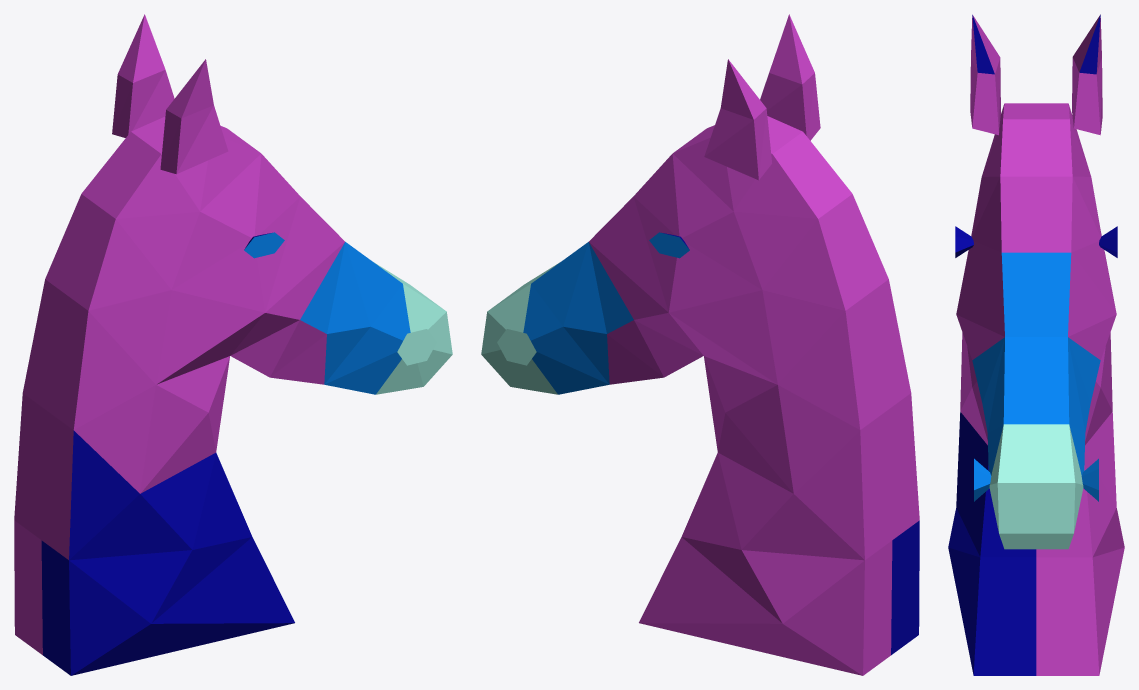
File: horse_head_hifi.obj
3 renders of one model, left to right at view 1: azimuth 30°, elevation 25°; view 2: azimuth 150°, elevation 25°; view 3: azimuth 270°, elevation 25°, orthographic. The views are drawn at different scales.
Visible parts, largest first — view 1: body, ear_right, ear_left, nostril_1, eye_1; view 2: body, ear_left, ear_right, nostril_-1, eye_-1; view 3: body, ear_left, ear_right, nostril_-1, nostril_1, eye_-1, eye_1.
Boxes of the visible parts, box(x1,y1,x2,y2) form: body: box(14, 116, 452, 675); ear_right: box(160, 59, 228, 174); ear_left: box(112, 14, 174, 137); nostril_1: box(397, 329, 436, 365); eye_1: box(244, 232, 284, 258); body: box(481, 116, 919, 675); ear_left: box(704, 59, 771, 180); ear_right: box(760, 14, 820, 140); nostril_-1: box(497, 329, 536, 365); eye_-1: box(649, 232, 689, 258); body: box(948, 103, 1124, 675); ear_left: box(1072, 14, 1102, 135); ear_right: box(970, 14, 1000, 135); nostril_-1: box(1081, 458, 1098, 501); nostril_1: box(974, 458, 991, 501); eye_-1: box(1099, 226, 1117, 257); eye_1: box(955, 226, 973, 257).
Bounding box in the file's own units: 3.56 × 5.08 × 1.32.
